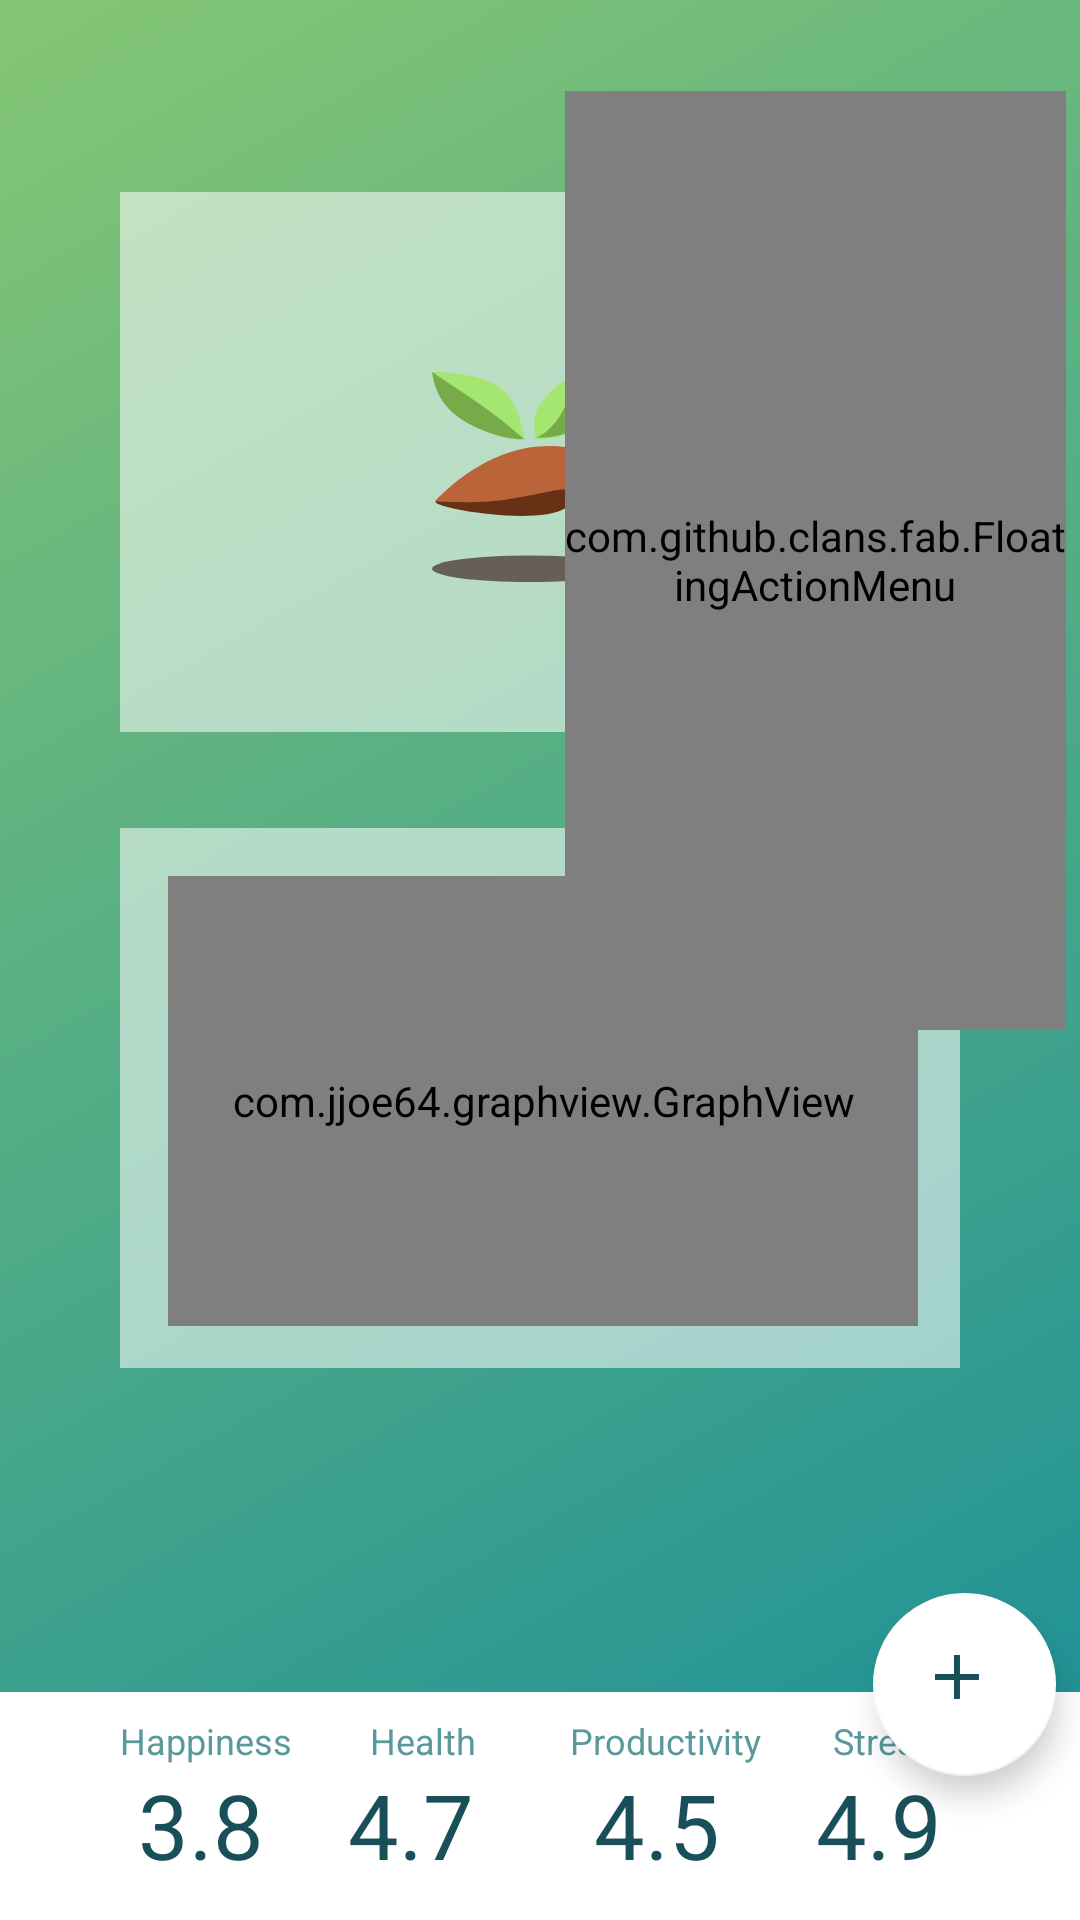

Screen size 1080w x 1920h. Icon name, then its center in pixels as [x,y]:
add: [964,1684]
